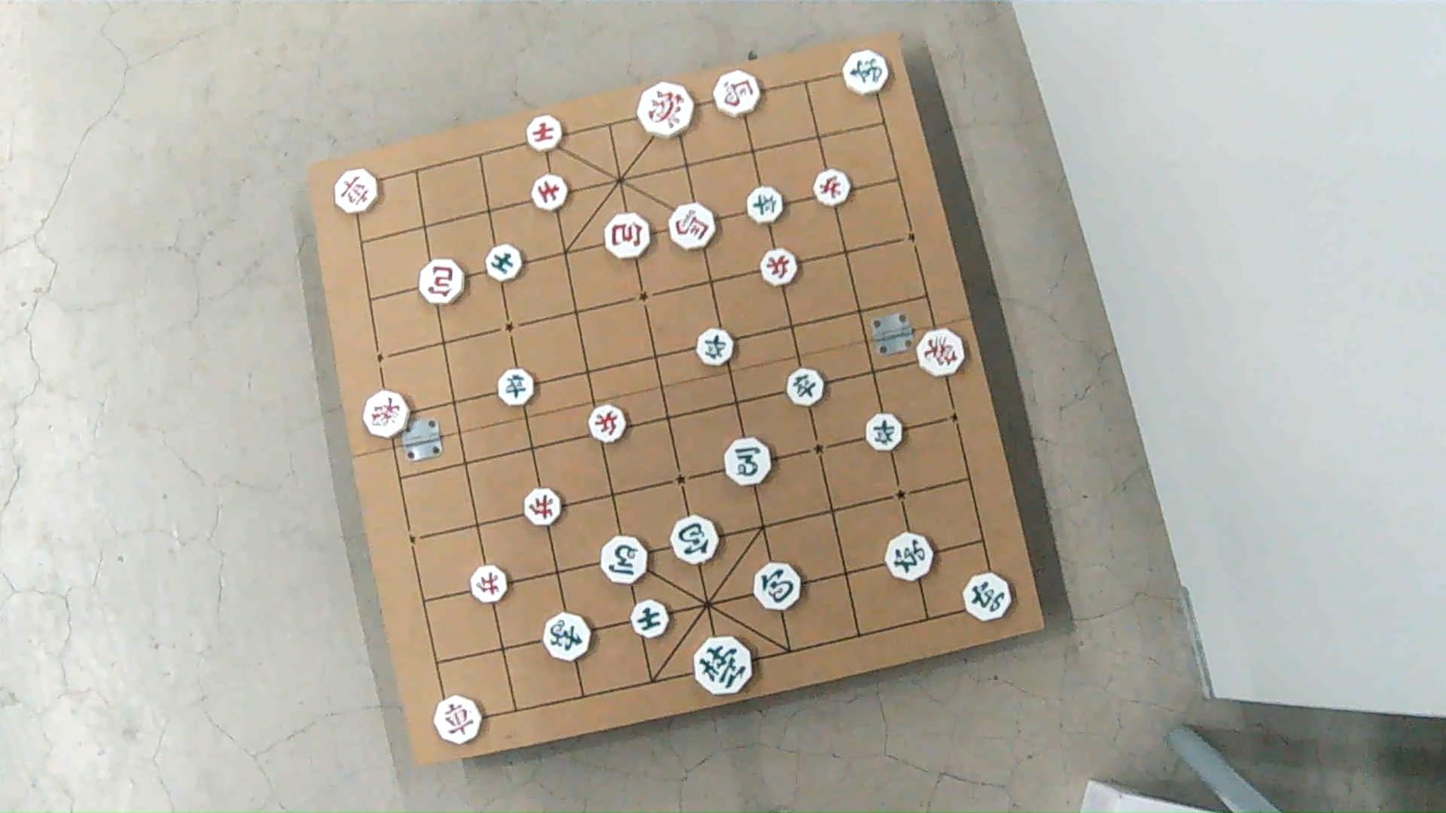cha_green: (966, 572, 1015, 621), (888, 533, 936, 581)
cha_red: (435, 696, 483, 744), (334, 170, 380, 216)
jol_green: (787, 367, 825, 407), (697, 329, 734, 367), (865, 413, 902, 450), (749, 188, 786, 225), (502, 370, 537, 407)
jol_red: (526, 489, 564, 527), (591, 406, 628, 445), (471, 566, 508, 604), (763, 251, 801, 288), (813, 169, 850, 206)
ma_green: (725, 438, 773, 486), (602, 536, 649, 583)
ma_red: (712, 71, 760, 117), (670, 202, 717, 248)
po_green: (755, 563, 803, 611), (673, 517, 720, 565)
po_red: (606, 215, 651, 260), (417, 259, 462, 304)
sa_green: (630, 600, 669, 639), (484, 245, 521, 282)
sa_red: (526, 116, 565, 154), (532, 175, 567, 211)
sang_green: (840, 50, 892, 96), (542, 613, 590, 661)
sang_red: (918, 328, 967, 376), (365, 391, 411, 437)
wang_green: (694, 638, 753, 696)
wang_red: (636, 84, 692, 139)
